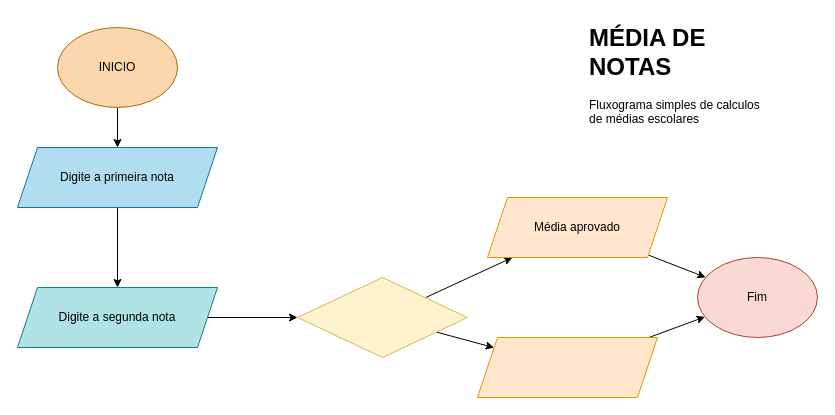
Image size: 835x415. Some labels were removed from this diagram. Each missing label, with the centre of its shape:
Média reprovado: [567,367]
nota >=7: [382,317]
